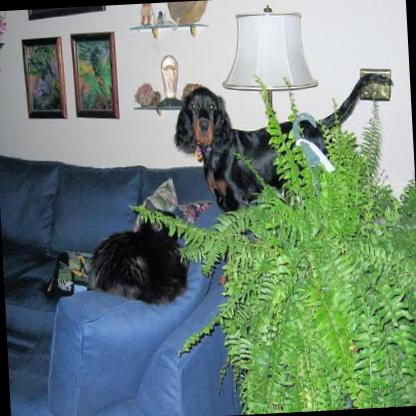Gordon_setter: (168, 70, 400, 241)
